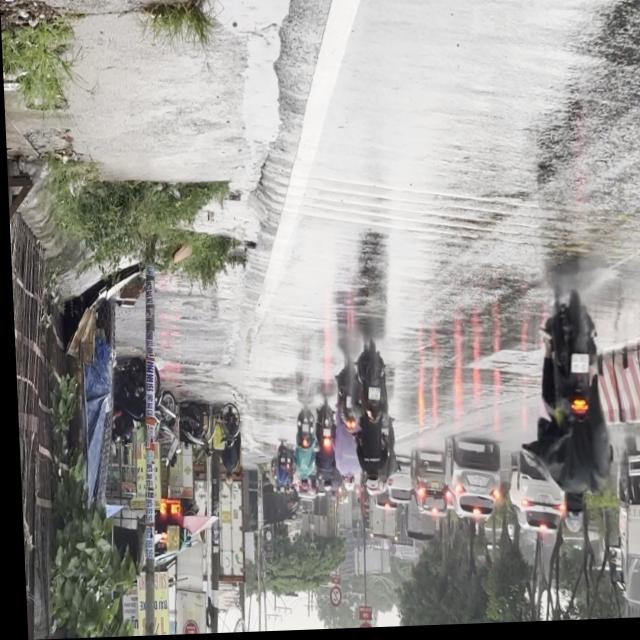helmet: (558, 498, 582, 539)
licenseplate: (523, 289, 610, 543)
nohelmet: (568, 359, 587, 380)
